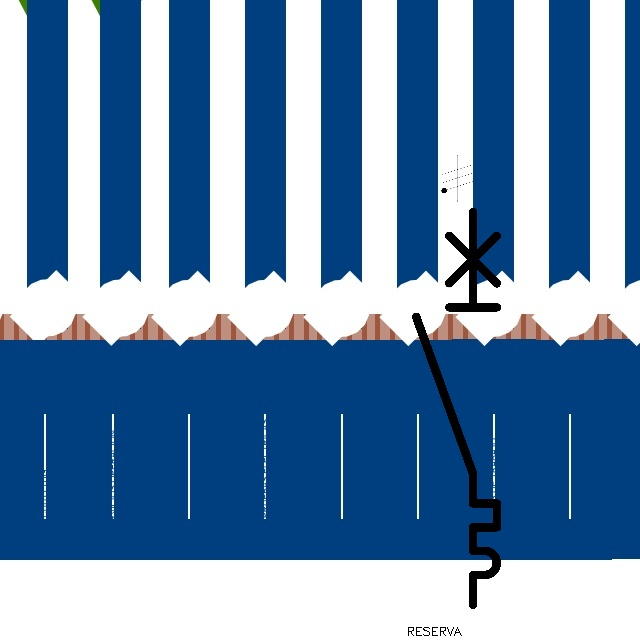interruptor_termomagnetico: (406, 201, 507, 614)
